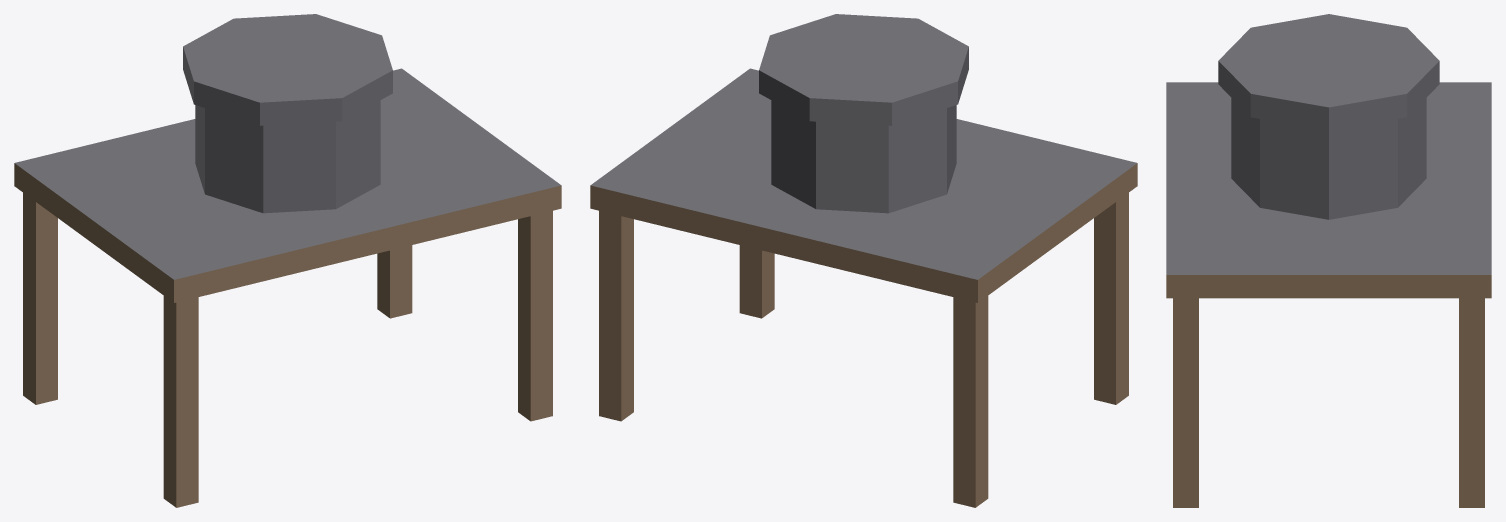
Rendered from cooking_pot.glb.
3 renders of one model, left to right at view 1: azimuth 30°, elevation 25°; view 2: azimuth 150°, elevation 25°; view 3: azimuth 270°, elevation 25°, orthographic.
Visible parts, largest first — view 1: cooking_pot; view 2: cooking_pot; view 3: cooking_pot.
Part boxes in pixels (<box>): cooking_pot: <box>14,14,561,507</box>; cooking_pot: <box>590,14,1137,507</box>; cooking_pot: <box>1166,14,1491,507</box>.
Size of the model in its own units: 0.7 by 0.6 by 0.5.
